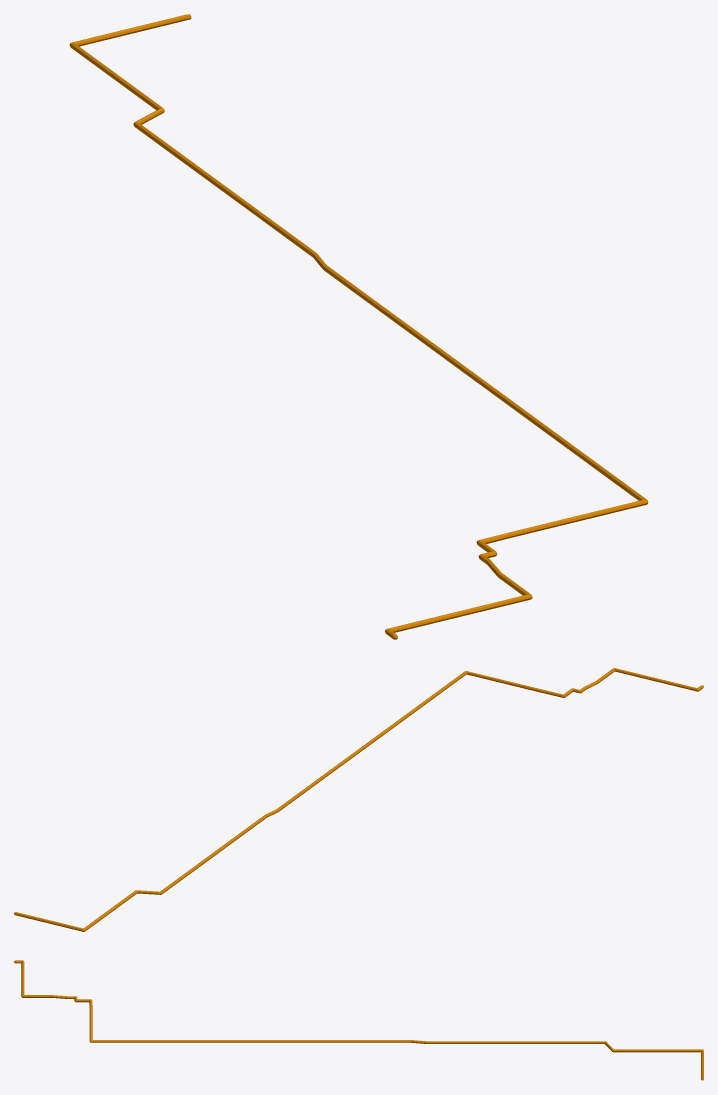
3 views of the same model, one above another, from view 1: azimuth 30°, elevation 25°; view 2: azimuth 150°, elevation 25°; view 3: azimuth 270°, elevation 25° (orthographic). The views are drawn at different scales.
Size of the model in its own units: 1881 by 20 by 4631.
